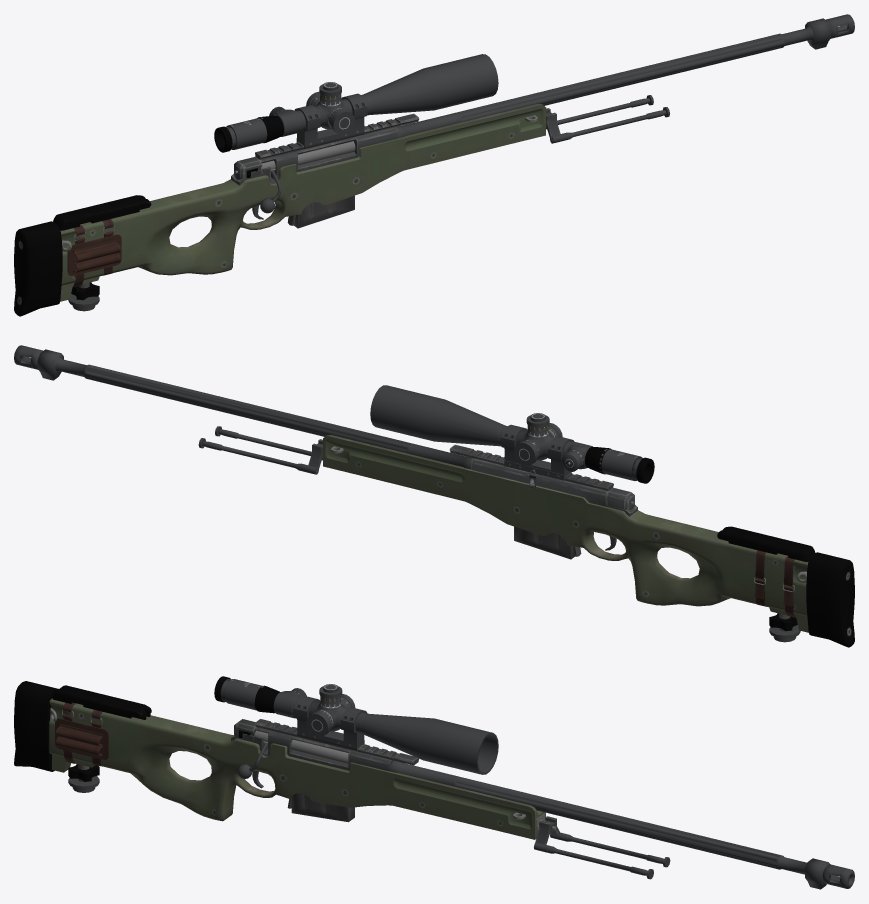
The picture shows the model from 3 angles, top to bottom: view 1: azimuth 30°, elevation 25°; view 2: azimuth 150°, elevation 25°; view 3: azimuth 330°, elevation 25°; orthographic projection.
Parts seen in each view (by area): view 1: L96A1_Body_UV_L96A1_Body_0, L96A1_Scope_UV_L96A1_Scope_0, L96A1_BulletBage_UV_L96A1_Body_0, L96A1_Bolt_Handle_UV_L96A1_Body_0, L96A1_Magazine_UV_L96A1_Body_0, L96A1_Tripod_Right_UV_L96A1_Body_0, L96A1_Tripod_Left_UV_L96A1_Body_0; view 2: L96A1_Body_UV_L96A1_Body_0, L96A1_Scope_UV_L96A1_Scope_0, L96A1_BulletBage_UV_L96A1_Body_0, L96A1_Magazine_UV_L96A1_Body_0, L96A1_Tripod_Left_UV_L96A1_Body_0, L96A1_Tripod_Right_UV_L96A1_Body_0; view 3: L96A1_Body_UV_L96A1_Body_0, L96A1_Scope_UV_L96A1_Scope_0, L96A1_BulletBage_UV_L96A1_Body_0, L96A1_Bolt_Handle_UV_L96A1_Body_0, L96A1_Magazine_UV_L96A1_Body_0, L96A1_Tripod_Right_UV_L96A1_Body_0, L96A1_Tripod_Left_UV_L96A1_Body_0, L96A1_Tripod_UV_L96A1_Body_0.
Boxes of the visible parts, x1,y1,x2,y2 form: L96A1_Body_UV_L96A1_Body_0: (14,14,854,316); L96A1_Scope_UV_L96A1_Scope_0: (214,54,498,152); L96A1_BulletBage_UV_L96A1_Body_0: (67,219,121,286); L96A1_Bolt_Handle_UV_L96A1_Body_0: (260,141,355,213); L96A1_Magazine_UV_L96A1_Body_0: (294,195,354,228); L96A1_Tripod_Right_UV_L96A1_Body_0: (550,107,669,143); L96A1_Tripod_Left_UV_L96A1_Body_0: (546,95,653,129); L96A1_Body_UV_L96A1_Body_0: (14,345,854,647); L96A1_Scope_UV_L96A1_Scope_0: (370,385,654,488); L96A1_BulletBage_UV_L96A1_Body_0: (754,550,795,617); L96A1_Magazine_UV_L96A1_Body_0: (514,526,574,559); L96A1_Tripod_Left_UV_L96A1_Body_0: (198,438,318,474); L96A1_Tripod_Right_UV_L96A1_Body_0: (215,426,322,460); L96A1_Body_UV_L96A1_Body_0: (14,681,854,889); L96A1_Scope_UV_L96A1_Scope_0: (214,676,498,774); L96A1_BulletBage_UV_L96A1_Body_0: (55,702,108,766); L96A1_Bolt_Handle_UV_L96A1_Body_0: (237,730,348,778); L96A1_Magazine_UV_L96A1_Body_0: (291,793,354,822); L96A1_Tripod_Right_UV_L96A1_Body_0: (534,842,653,879); L96A1_Tripod_Left_UV_L96A1_Body_0: (550,832,670,867); L96A1_Tripod_UV_L96A1_Body_0: (535,816,560,844).
Bounding box in the file's own units: 127 × 23.68 × 7.61.
2 materials, 2 textured.
